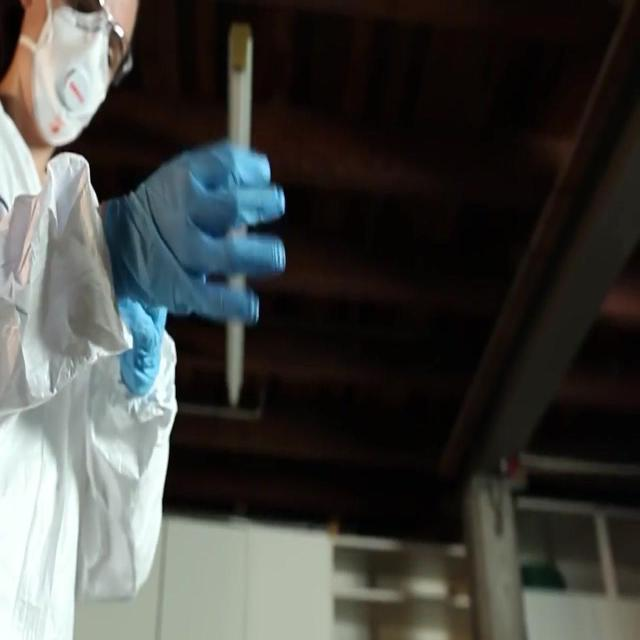gloves: (89, 136, 301, 334)
